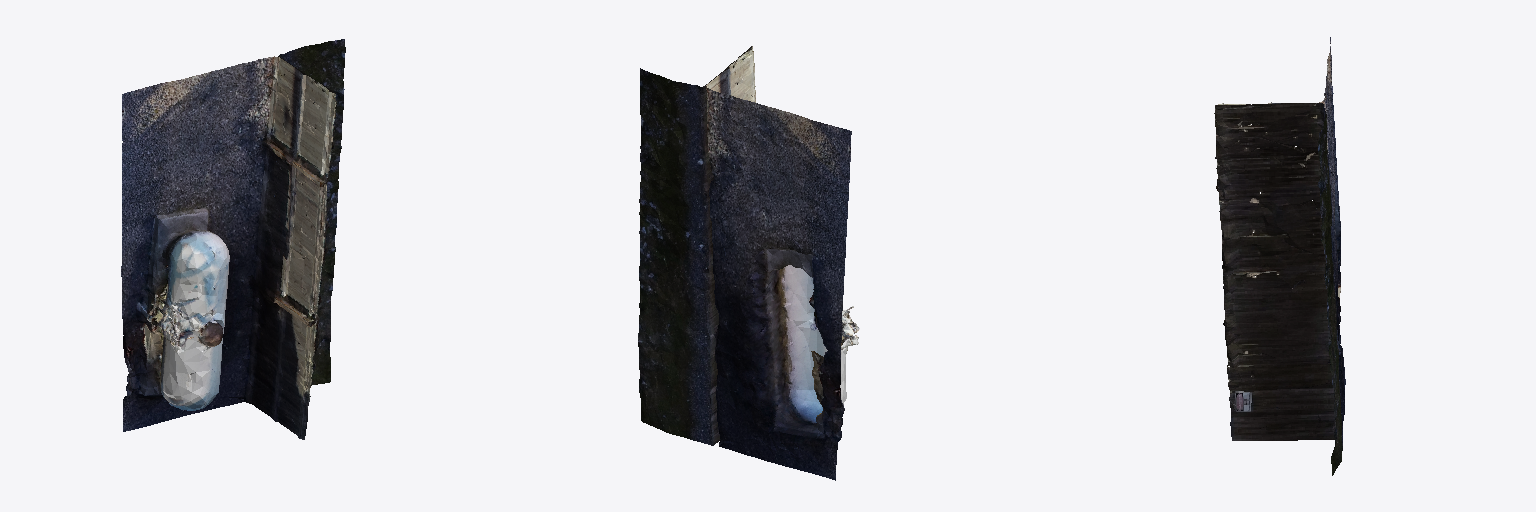
The picture shows the model from 3 angles: view 1: azimuth 30°, elevation 25°; view 2: azimuth 150°, elevation 25°; view 3: azimuth 270°, elevation 25°; orthographic projection.
Bounding box in the file's own units: 4 × 6.17 × 2.09.
2 materials, 1 textured.